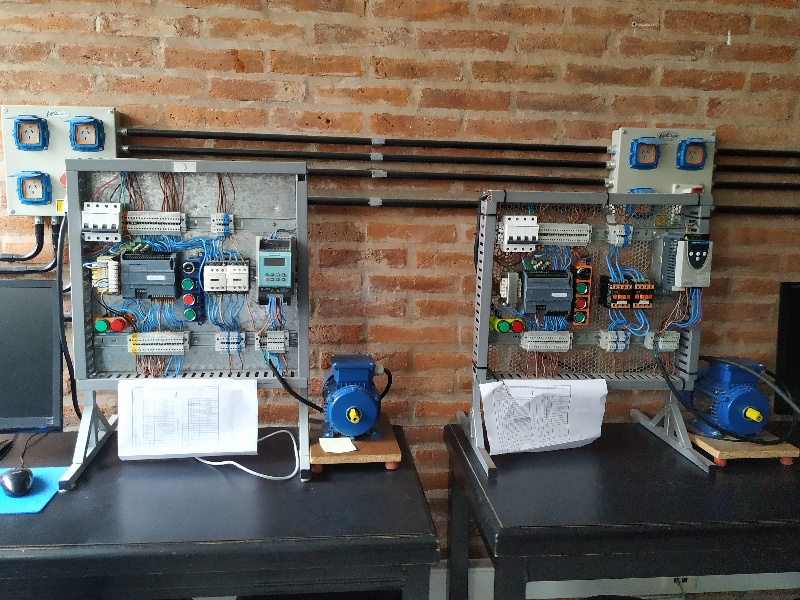Tablero 3: (69, 161, 304, 380)
Tablero 4: (489, 195, 714, 388)
